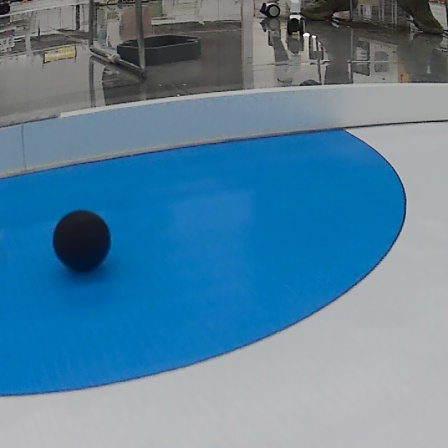black: (53, 210, 120, 272)
blue_base: (0, 123, 409, 395)
